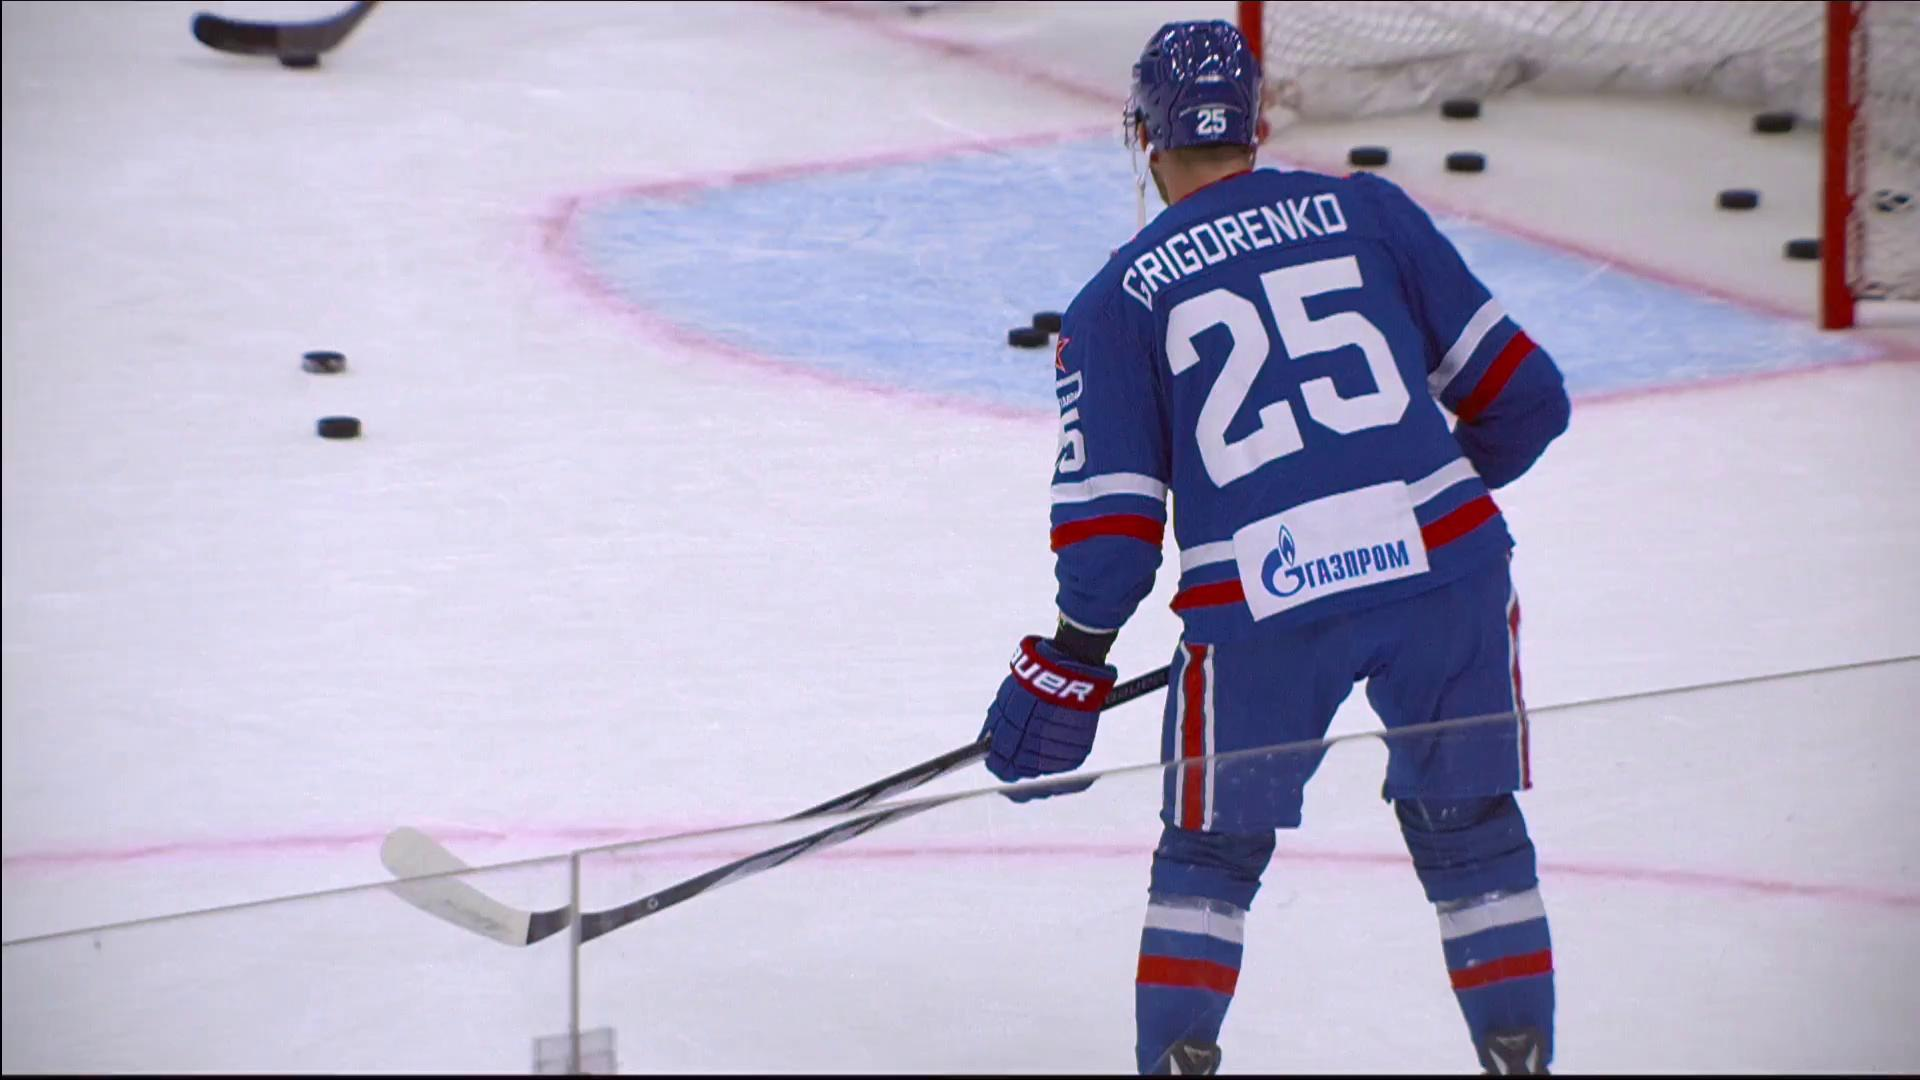ball: (299, 349, 347, 375), (1870, 190, 1915, 215), (316, 415, 361, 439), (1007, 327, 1052, 351), (1441, 98, 1481, 123), (1716, 190, 1758, 211), (1754, 112, 1796, 133), (1345, 148, 1393, 166), (1784, 237, 1820, 261), (1447, 153, 1485, 171), (1034, 311, 1064, 332)
